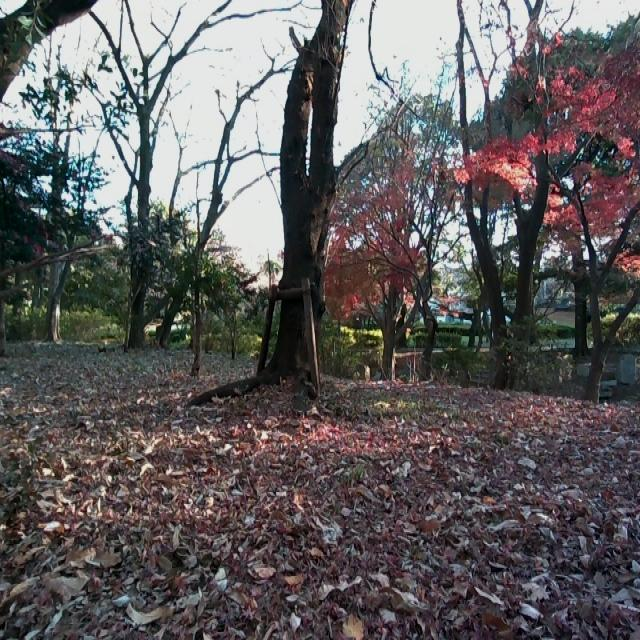tree: (226, 0, 391, 395), (92, 0, 240, 352), (455, 0, 558, 389), (557, 144, 640, 393), (0, 0, 106, 160), (37, 72, 90, 352), (394, 170, 449, 341), (362, 230, 417, 371)
